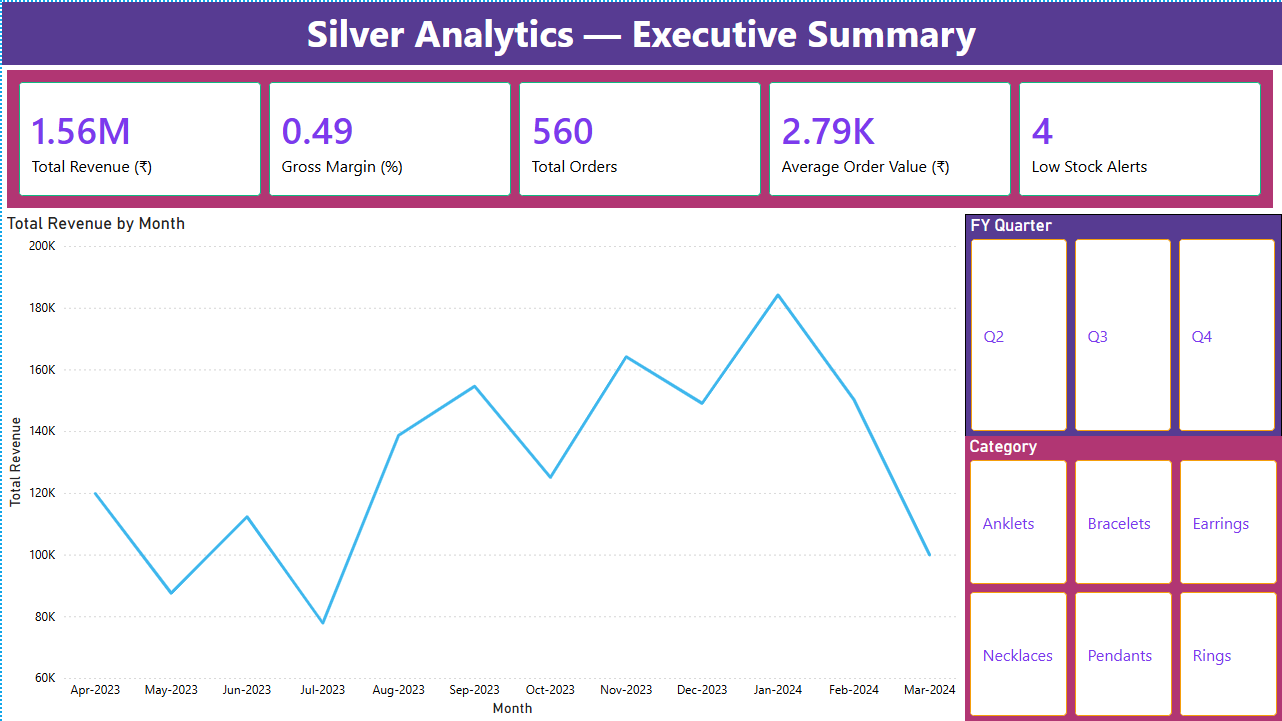

Layout of this report page (visuals, bound fields, positions):
{"tool":"powerbi","page":{"name":"Executive Summary","canvas":[1280,720],"ordinal":0},"visuals":[{"type":"cardVisual","title":"Total Revenue ₹","fields":{"Data":["_Measures.Total Revenue","_Measures.Gross Margin %","_Measures.Total Orders","_Measures.Avg Order Value","_Measures.Low Stock Items"]},"box":[0,63,1280,148],"z":0},{"type":"advancedSlicerVisual","fields":{"Values":["Date_Table.FY Quarter"]},"box":[963,212,317,223],"z":1000},{"type":"advancedSlicerVisual","fields":{"Values":["Product_Master.Category"]},"box":[963,434,317,285],"z":2000},{"type":"lineChart","fields":{"Category":["Date_Table.Month"],"Y":["_Measures.Total Revenue"]},"box":[0,212,963,507],"z":3000},{"type":"textbox","box":[0,0,1280,63],"z":4000}]}

Visuals, with their boxes in screenshot pixels (x1, y1, x2, y2), scaled from the page's 1280x720 canvas onto the 1282x721 screenshot:
"Total Revenue ₹" cardVisual: (left=0, top=63, right=1281, bottom=211)
advancedSlicerVisual - Date_Table.FY Quarter: (left=965, top=212, right=1281, bottom=436)
advancedSlicerVisual - Product_Master.Category: (left=965, top=435, right=1281, bottom=720)
lineChart - Date_Table.Month x _Measures.Total Revenue: (left=0, top=212, right=965, bottom=720)
textbox: (left=0, top=0, right=1281, bottom=63)
